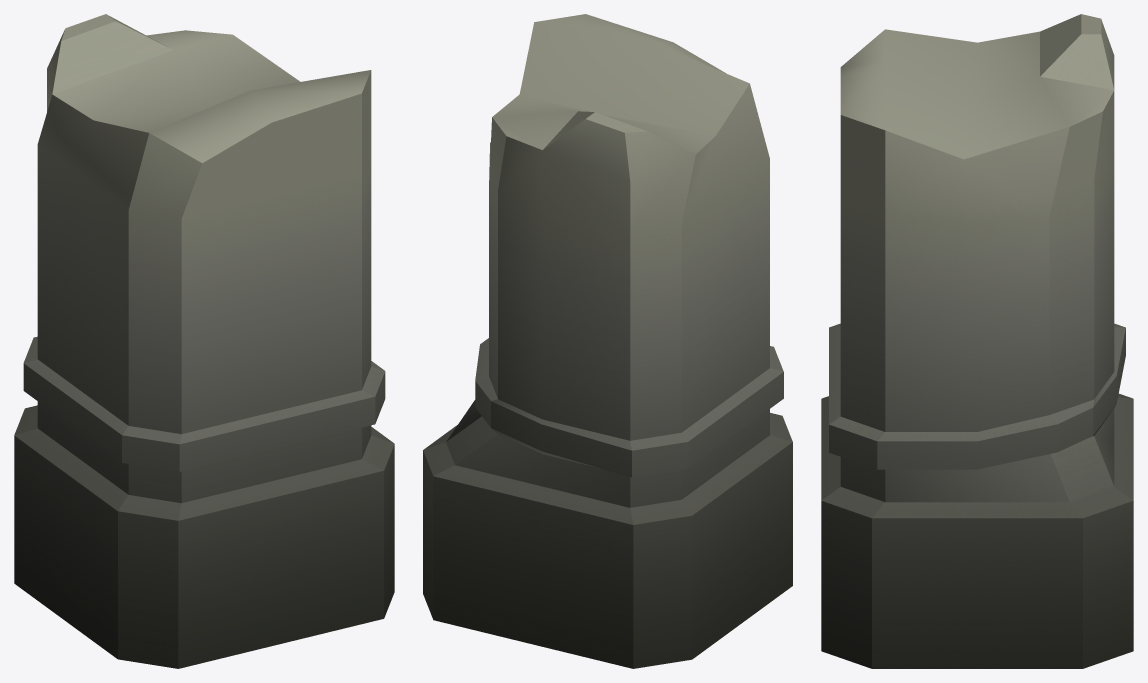
File: ruin02.fbx
3 views of the same model, side by side, from view 1: azimuth 30°, elevation 25°; view 2: azimuth 150°, elevation 25°; view 3: azimuth 270°, elevation 25° (orthographic). The views are drawn at different scales.
Visible parts, largest first — view 1: ruin02; view 2: ruin02; view 3: ruin02.
Part boxes in pixels (<box>): ruin02: <box>14,14,394,668</box>; ruin02: <box>423,14,792,668</box>; ruin02: <box>821,14,1133,668</box>.
Bounding box in the file's own units: 1.34 × 2.52 × 1.29.
